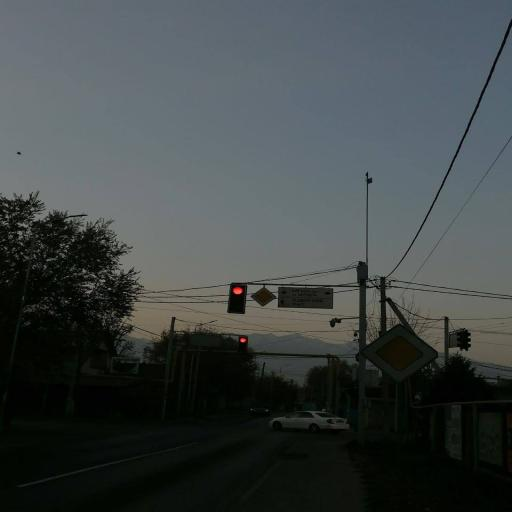table: (225, 256, 383, 463)
